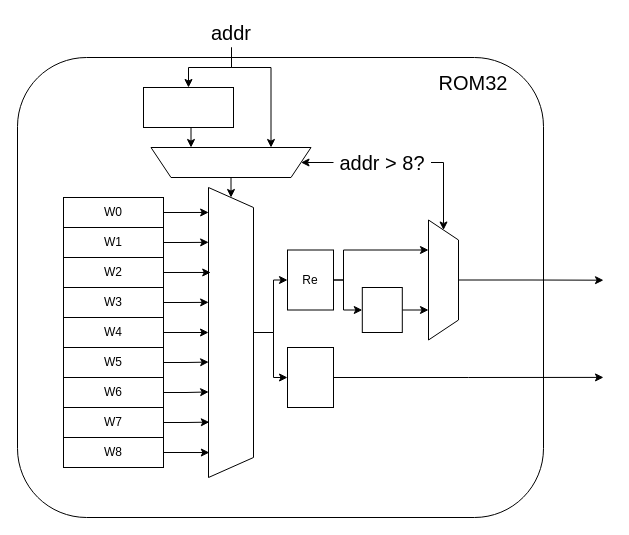
The diagram is 629 pixels wide and 535 high, and some of its shapes have lost their labels. The shapes that lost their labels are listed below. From the top down, each one's centre as x and y in pixels, then its label:
At (188,107): "16 - addr".
At (381,309): "x -1".
At (310,377): "Im".
